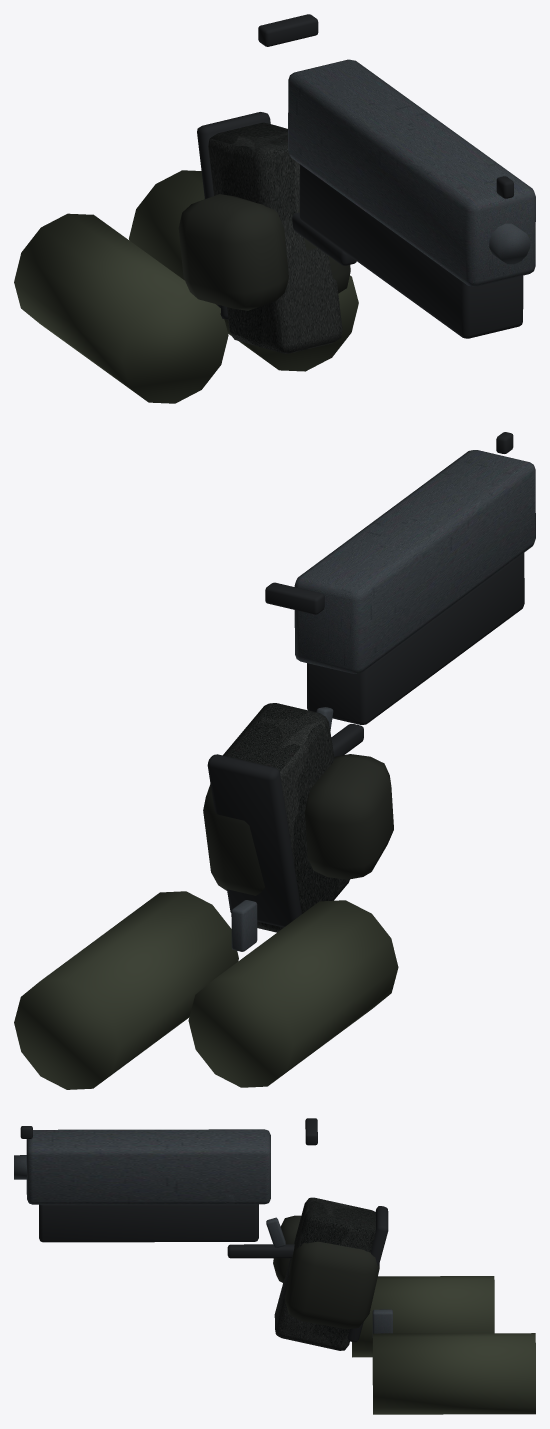
The model's file is weapon_pm.glb.
3 views of the same model, one above another, from view 1: azimuth 30°, elevation 25°; view 2: azimuth 150°, elevation 25°; view 3: azimuth 270°, elevation 25° (orthographic). The views are drawn at different scales.
Visible parts, largest first — view 1: WeaponMesh; view 2: WeaponMesh; view 3: WeaponMesh.
Boxes of the visible parts, box(x1,y1,x2,y2) form: WeaponMesh: box(14, 14, 535, 403); WeaponMesh: box(14, 432, 535, 1089); WeaponMesh: box(14, 1118, 535, 1414).
Bounding box in the file's own units: 0.1906 × 0.2865 × 0.513.
5 materials, 2 textured.
